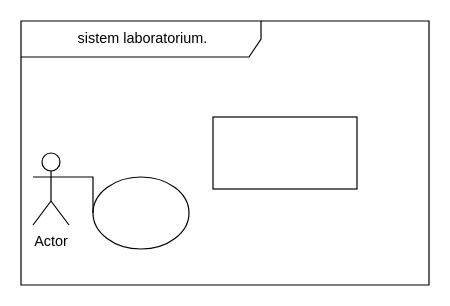
This 450x306 diagram has some shape labels left out. The shapes that lost their labels are listed below. From the top down, each one's centre as x and y in pixels, then its label:
the point at 284,152: lihat jadwak kuliah
the point at 140,212: Kelola jadwal kuliah
